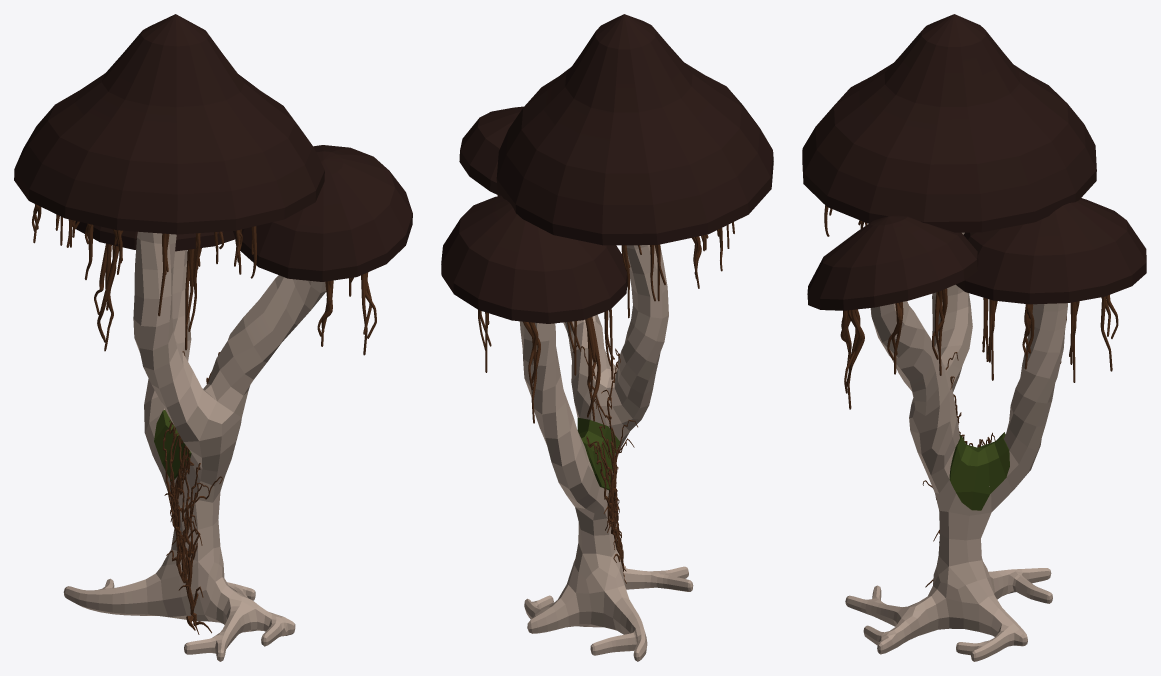
Rendered from meshes_tree06_tall.glb.
3 renders of one model, left to right at view 1: azimuth 30°, elevation 25°; view 2: azimuth 150°, elevation 25°; view 3: azimuth 270°, elevation 25°, orthographic.
Parts seen in each view (by area): view 1: mushroomtree06; view 2: mushroomtree06; view 3: mushroomtree06.
Boxes of the visible parts, bbox=[...] form: mushroomtree06: bbox=[14, 14, 412, 661]; mushroomtree06: bbox=[441, 14, 773, 661]; mushroomtree06: bbox=[802, 14, 1146, 661].
Bounding box in the file's own units: 62.38 × 113 × 58.02.
Materials: 1 (1 with a texture image).
